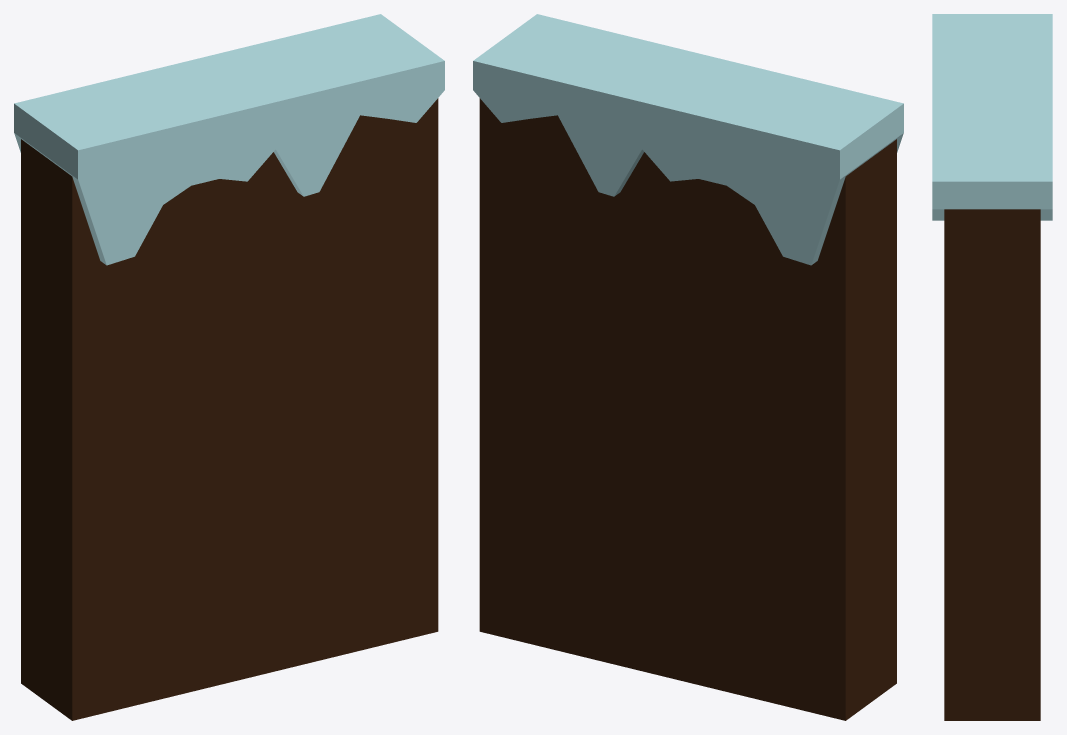
Rendered from GroundLevel.fbx.
3 views of the same model, side by side, from view 1: azimuth 30°, elevation 25°; view 2: azimuth 150°, elevation 25°; view 3: azimuth 270°, elevation 25° (orthographic). The views are drawn at different scales.
Parts seen in each view (by area): view 1: GroundLevel; view 2: GroundLevel; view 3: GroundLevel.
Boxes of the visible parts, x1,y1,x2,y2 form: GroundLevel: (14,14,444,720); GroundLevel: (473,14,903,720); GroundLevel: (932,14,1052,720).
Bounding box in the file's own units: 826 × 1238 × 250.
